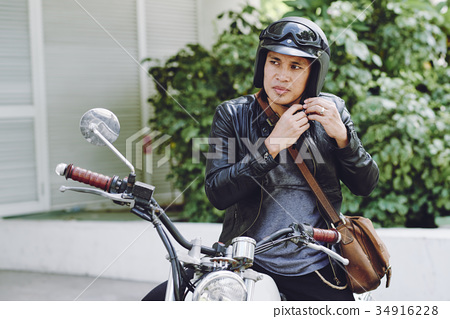helmet: (254, 19, 337, 94)
